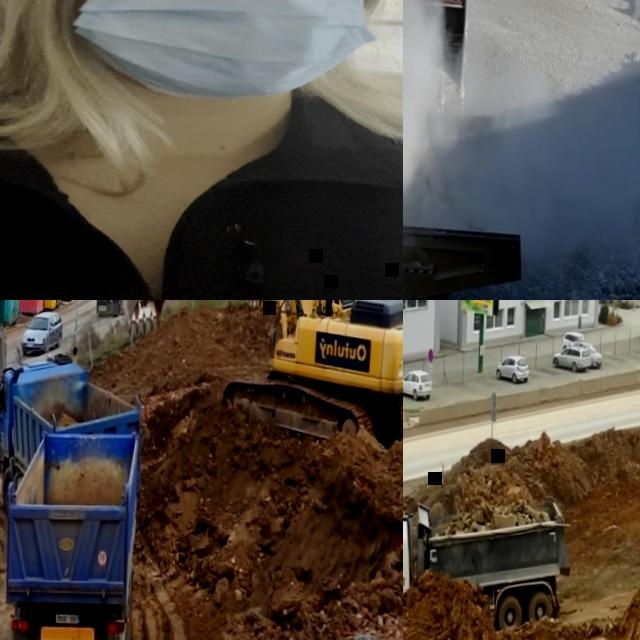Mask: (70, 0, 375, 99)
NO-Safety Vest: (0, 94, 403, 300)
Person: (0, 0, 403, 300)
machinery: (119, 300, 403, 447), (403, 46, 537, 300), (5, 425, 144, 640), (403, 485, 574, 633), (0, 355, 142, 522), (403, 0, 474, 116)
vehicle: (21, 309, 64, 357), (552, 345, 592, 372), (495, 354, 529, 384), (403, 367, 433, 400), (573, 341, 603, 368), (562, 330, 587, 350)
